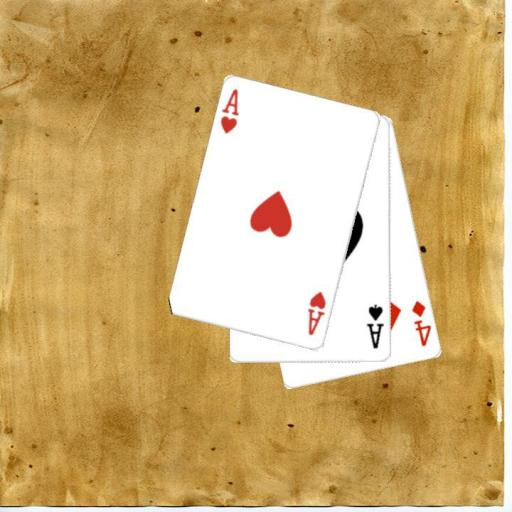4D: (409, 298, 433, 348)
AH: (217, 86, 241, 136), (304, 289, 328, 337)
AS: (364, 302, 386, 351)
